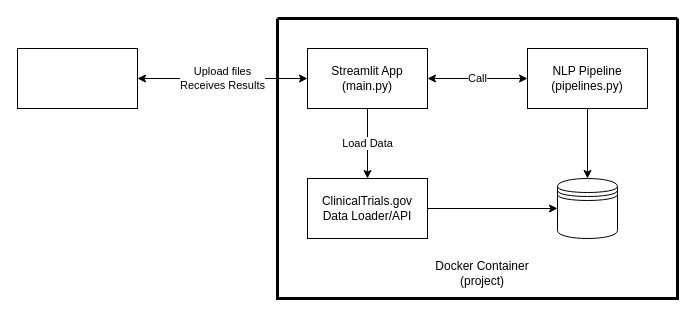
The diagram is 696 pixels wide and 317 high, and some of its shapes have lost their labels. The centre of each missing label's shape, as x and y in pixels:
Data Storage: point 587,208
User (Web User): point 77,78
